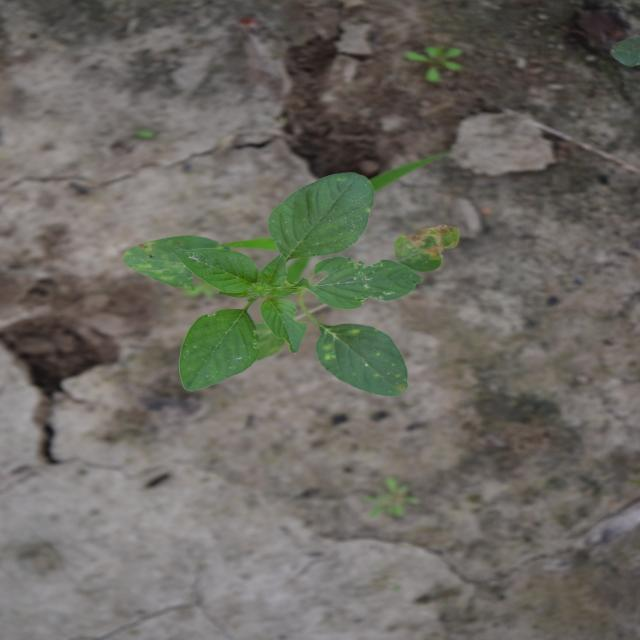PalmerAmaranth: (119, 170, 465, 400)
